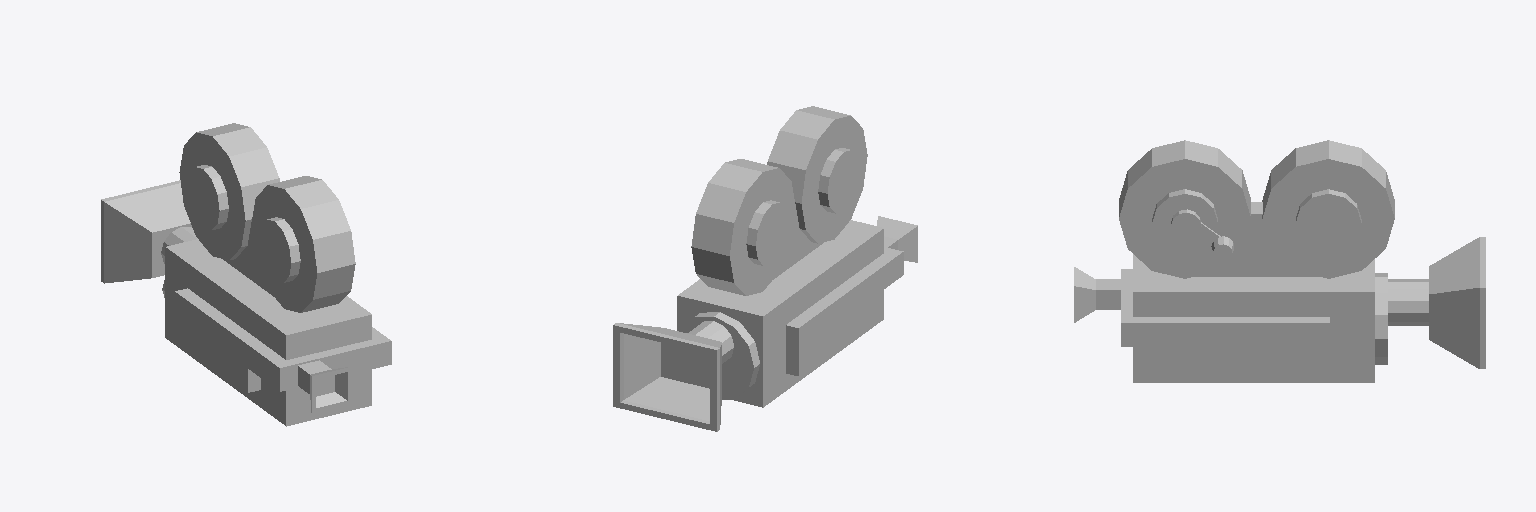
Rendered from Camera.obj.
The picture shows the model from 3 angles: view 1: azimuth 30°, elevation 25°; view 2: azimuth 150°, elevation 25°; view 3: azimuth 270°, elevation 25°; orthographic projection.
Visible parts, largest first — view 1: Cube.001; view 2: Cube.001; view 3: Cube.001.
Part boxes in pixels (x1,y1,x2,y2): Cube.001: (101,123,391,426); Cube.001: (613,106,917,431); Cube.001: (1074,140,1485,382).
Size of the model in its own units: 0.7239 by 1.32 by 2.31.